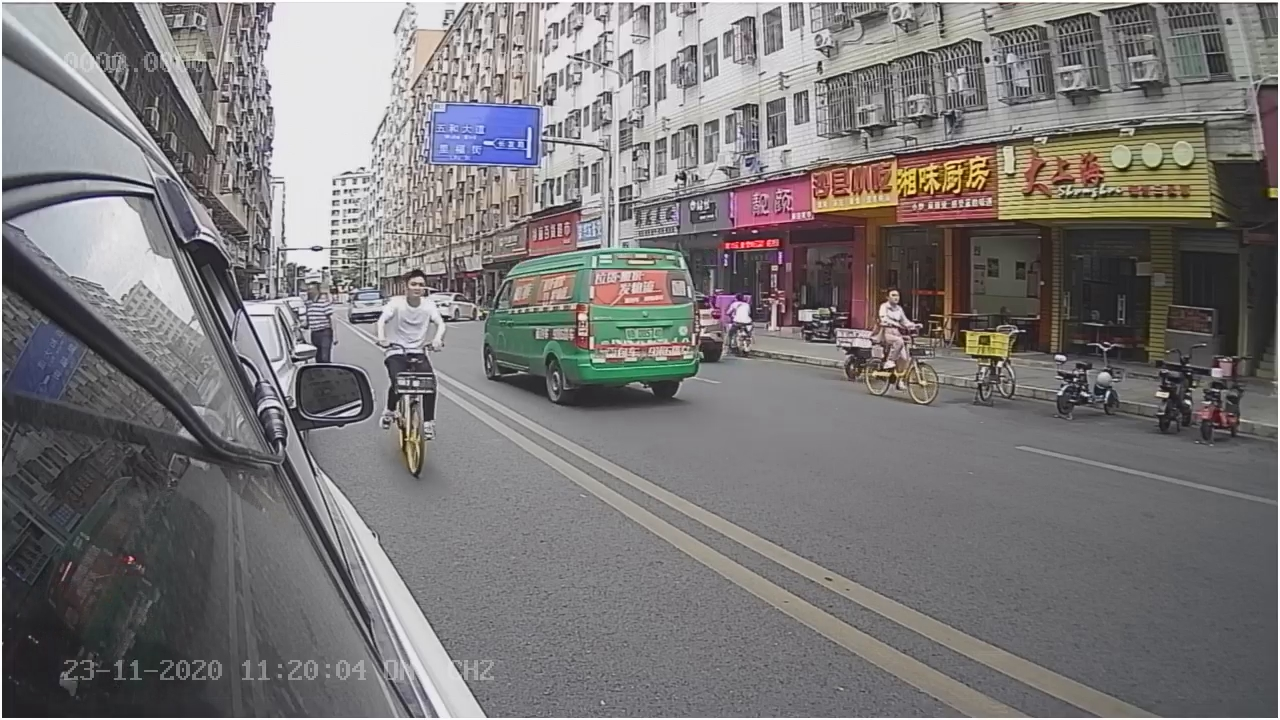person: (368, 267, 449, 352)
